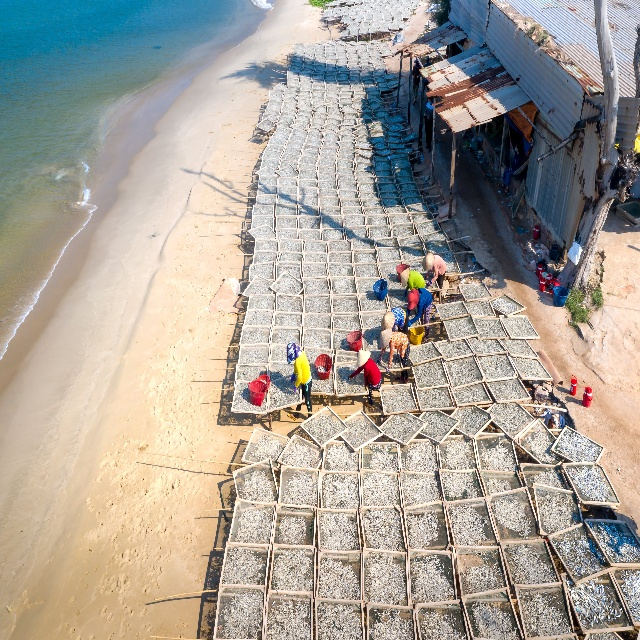Guantes: (377, 355, 383, 365), (290, 372, 296, 382), (293, 384, 297, 394), (348, 374, 353, 381), (385, 366, 390, 373), (427, 279, 432, 286)
